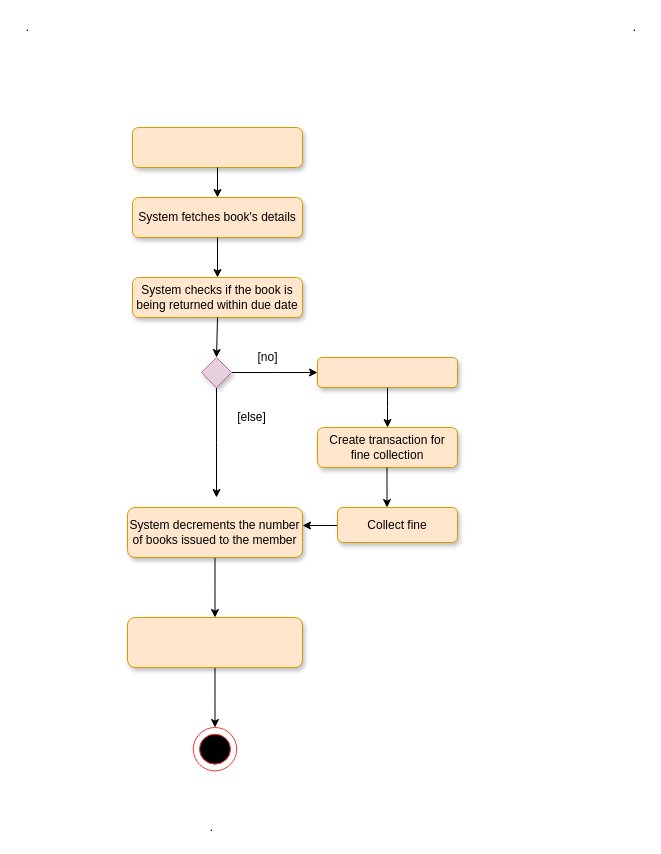
Image size: 661x854. Some labels were removed from this diagram. Each missing label, with the centre of its shape:
"Calculate fine" goes at point 388,373.
"Librarian enters the call number printed on the book" goes at point 218,148.
"System updates the status of the book to 'Available'" goes at point 215,643.
